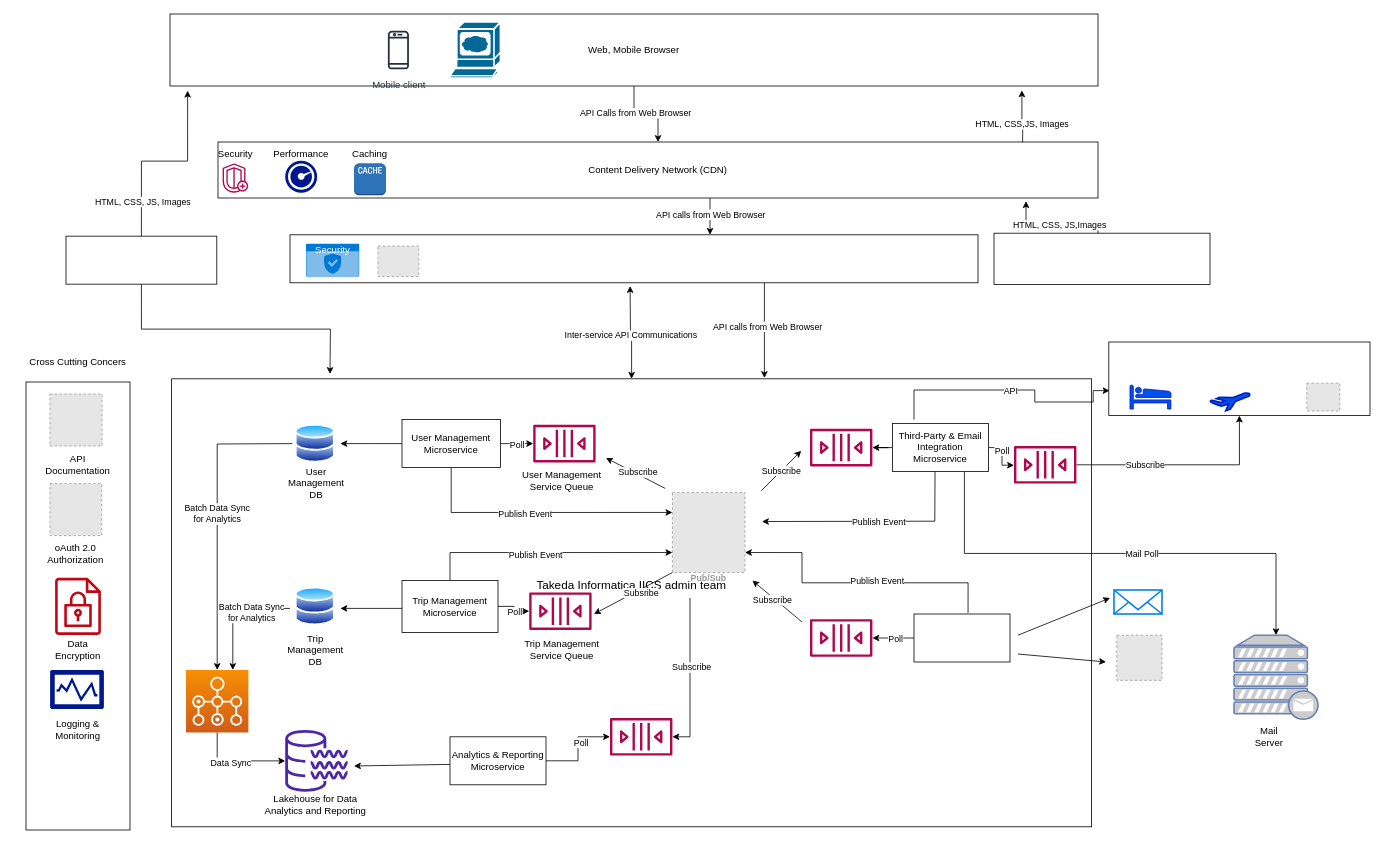
Image size: 1384x844. Some labels were removed from this diagram. Grey dashed boxes stand in for pictures. The box of each missing label's shape, as (x1, y1, x2, y2) in pixels:
Application Programming Interface(API) Gateway: (289, 234, 978, 283)
Notification Microservice: (913, 613, 1010, 662)
Road Warrior Analytics and Reporting Dashboard (For Internal Users): (65, 235, 217, 284)
Road Warriors Web & Mobile UI Application for Customers: (993, 232, 1210, 284)
Third-Party APIs, Topics: (1108, 341, 1370, 416)
